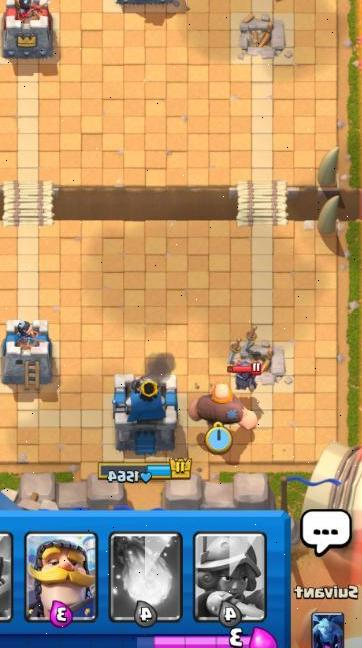enemy_mini_pekka: (225, 353, 269, 393)
player_giant: (188, 380, 261, 437)
